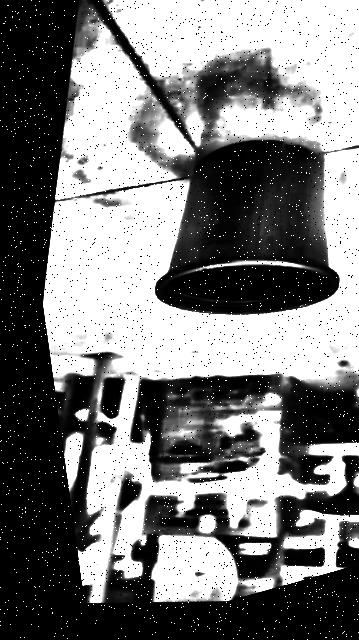pot: (154, 139, 338, 314)
